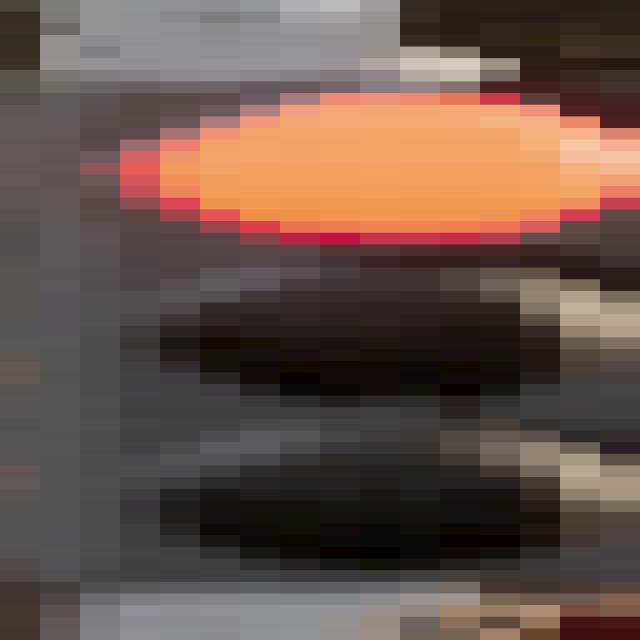red_light: (32, 69, 640, 561)
